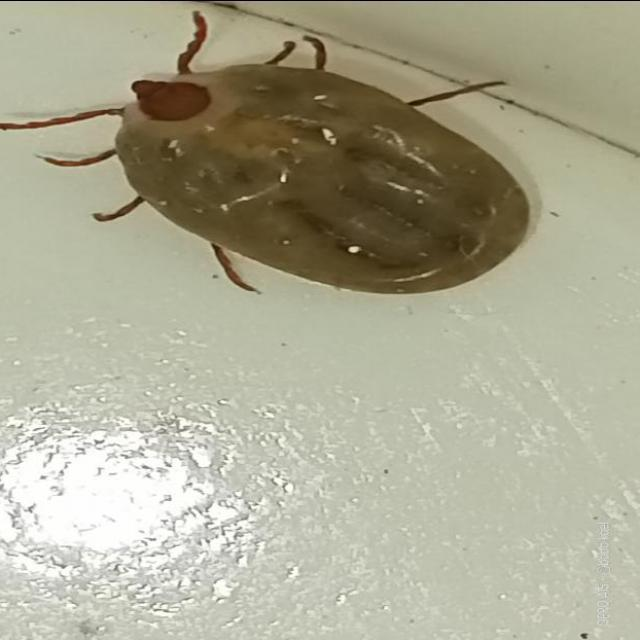Rhipicephalus Sanguineus-F-Fed: (0, 6, 534, 293)
